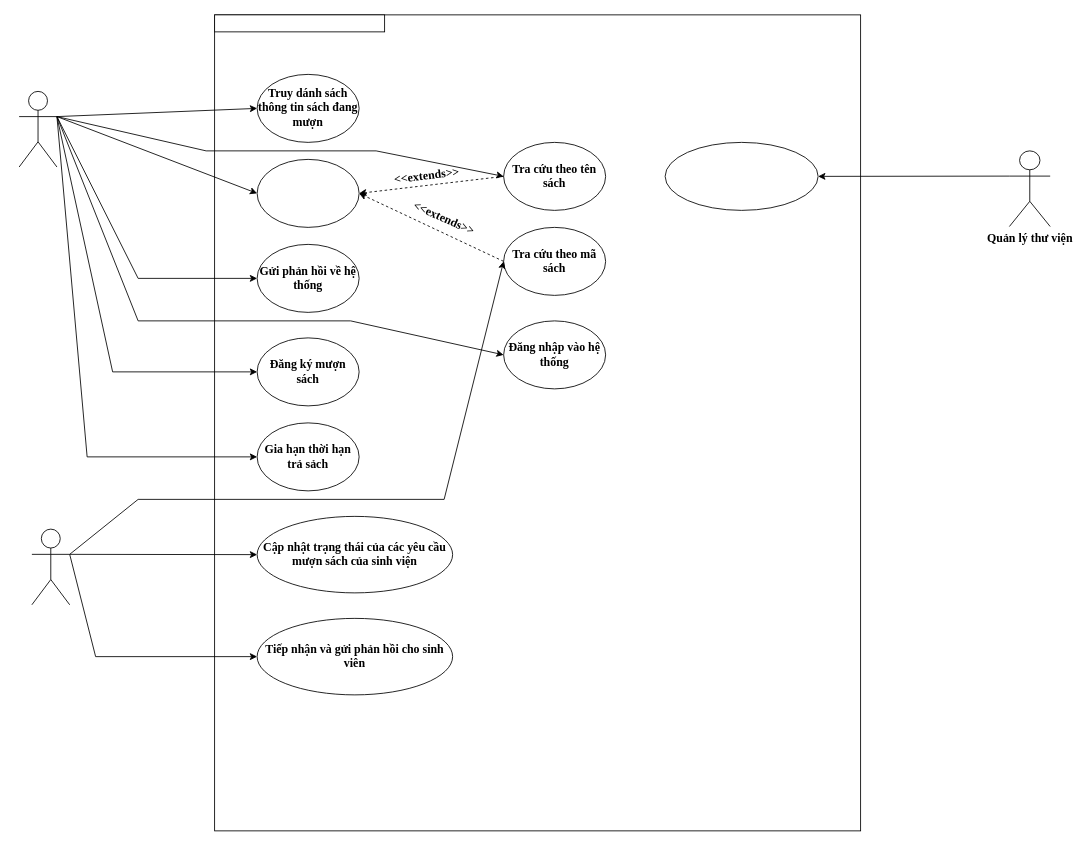
Image size: 1088x846. Some labels were removed from this diagram. Here are the shapes that lost their labels. From the top down, the centre of each, then its label:
At pixel 299 23: "Hệ thống quản lý thư viện".
At pixel 37 129: "Sinh viên".
At pixel 307 193: "Tra cứu sách cần mượn".
At pixel 741 176: "Thống kế sinh viên trả sách muộn/chưa trả sách".
At pixel 50 566: "Nhân viên".
